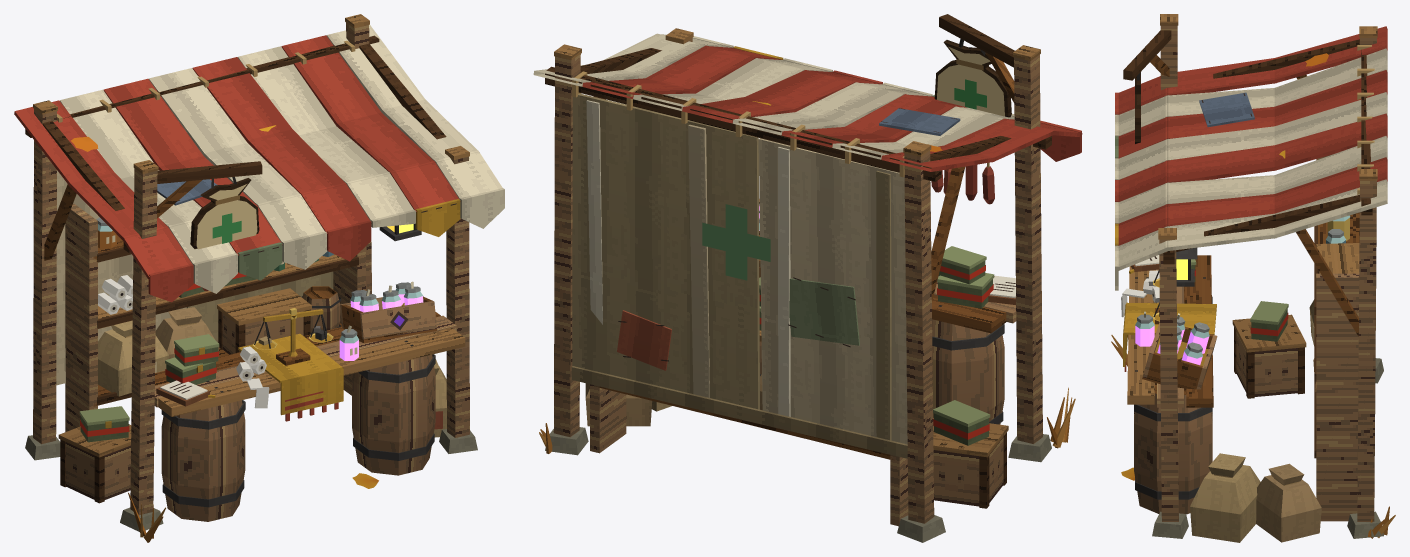
The model's file is op_supply.glb.
The picture shows the model from 3 angles, left to right: view 1: azimuth 30°, elevation 25°; view 2: azimuth 150°, elevation 25°; view 3: azimuth 270°, elevation 25°; orthographic projection. The views are drawn at different scales.
Visible parts, largest first — view 1: op_supply, sway_sign, glow_grit; view 2: op_supply, sway_sign; view 3: op_supply, glow_grit, sway_sign.
Boxes of the visible parts, box(x1,y1,x2,y2) form: op_supply: box(14, 14, 504, 542); sway_sign: box(190, 177, 259, 249); glow_grit: box(339, 294, 423, 360); op_supply: box(533, 14, 1082, 542); sway_sign: box(934, 39, 1011, 117); op_supply: box(1111, 14, 1395, 542); glow_grit: box(1135, 326, 1208, 365); sway_sign: box(1135, 72, 1140, 143).
Size of the model in its own units: 3 by 2.82 by 2.01.
72 materials, 30 textured.
